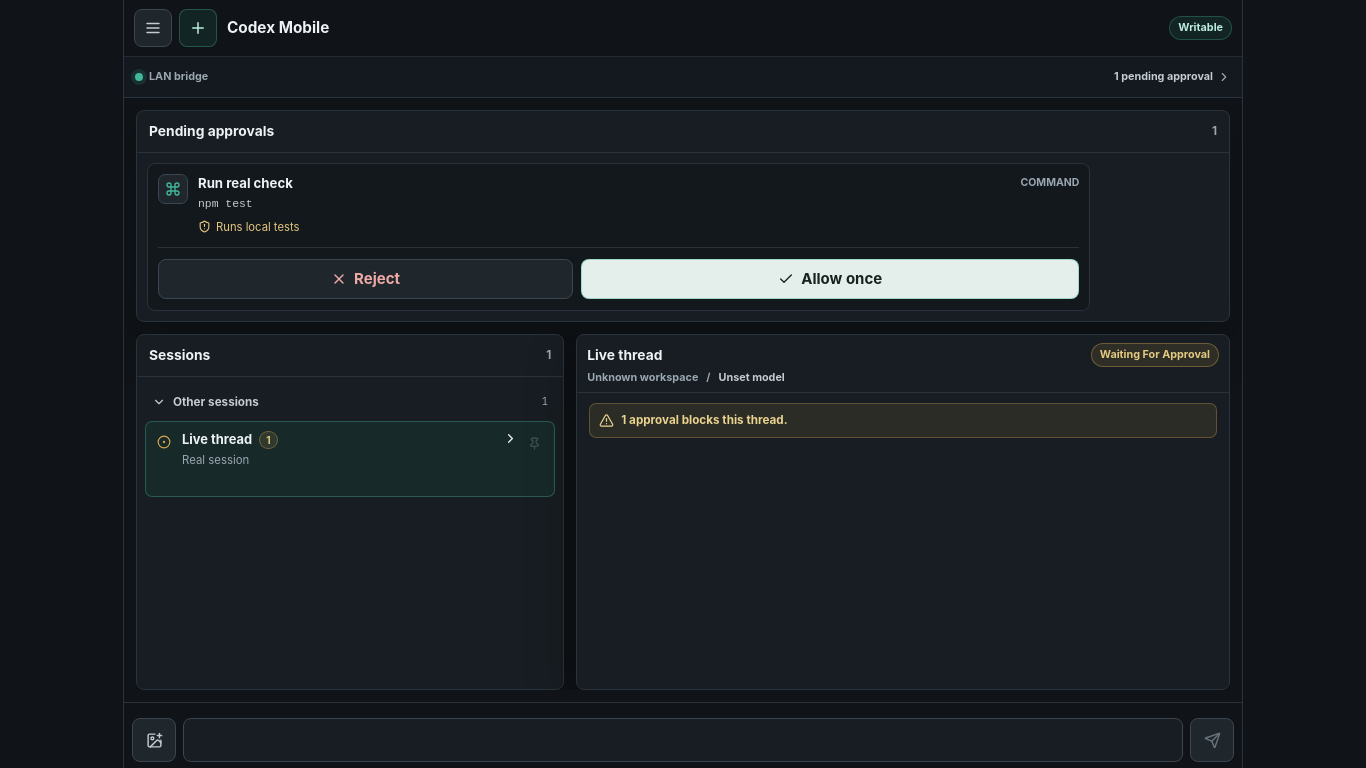
Scenario: App › renders_approval_card_and_approve_reject_buttons
The image size is (1366, 768).
Expected: the heading "Live thread" is shown, [587,347,662,363]
Expected: the heading "Run real check" is shown, [198,174,293,192]
Click the button with aria-label "Approve Run real check" at (830, 279), box [581,259,1079,299]
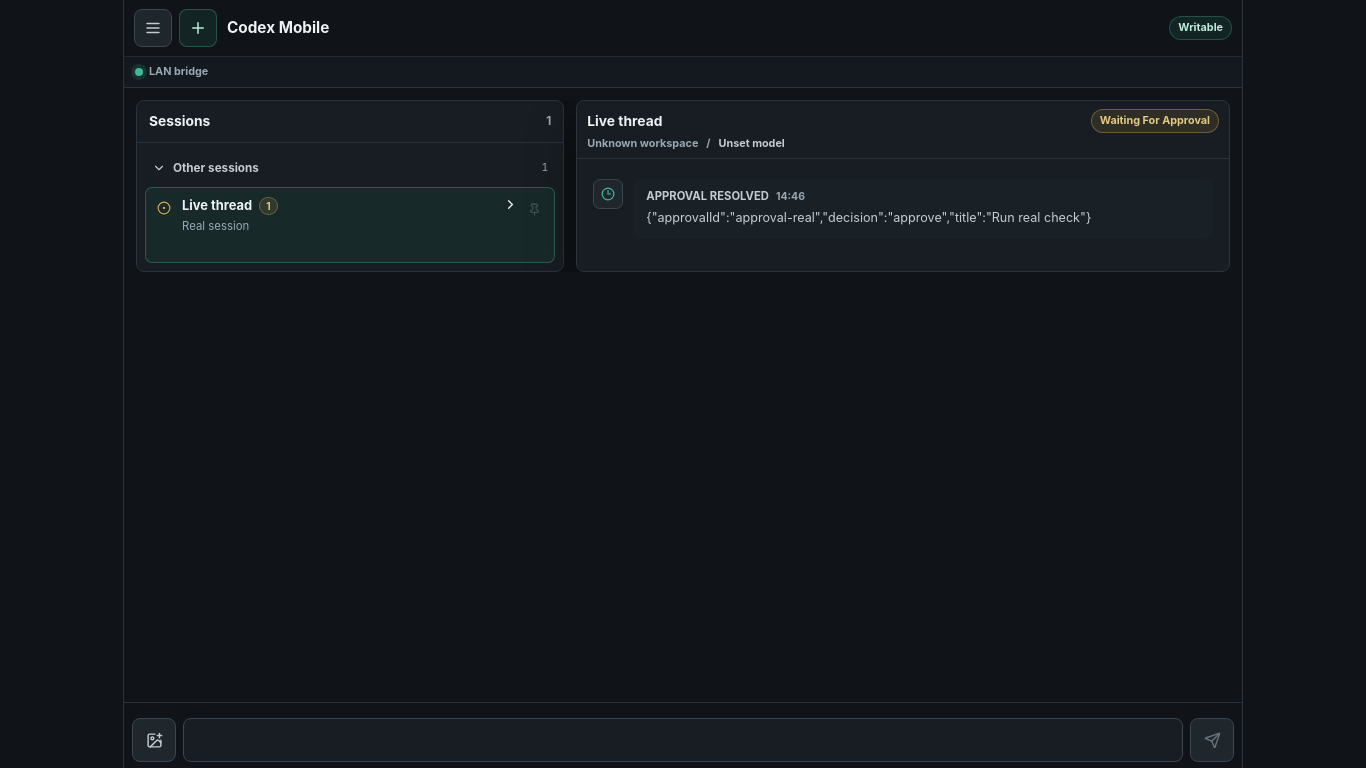
Now the text "approval resolved" is shown, box [646,190,769,204]
